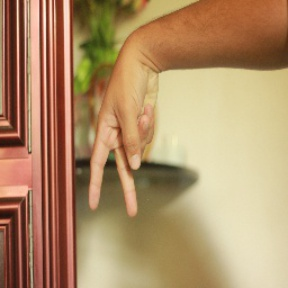Y: (83, 62, 163, 221)
